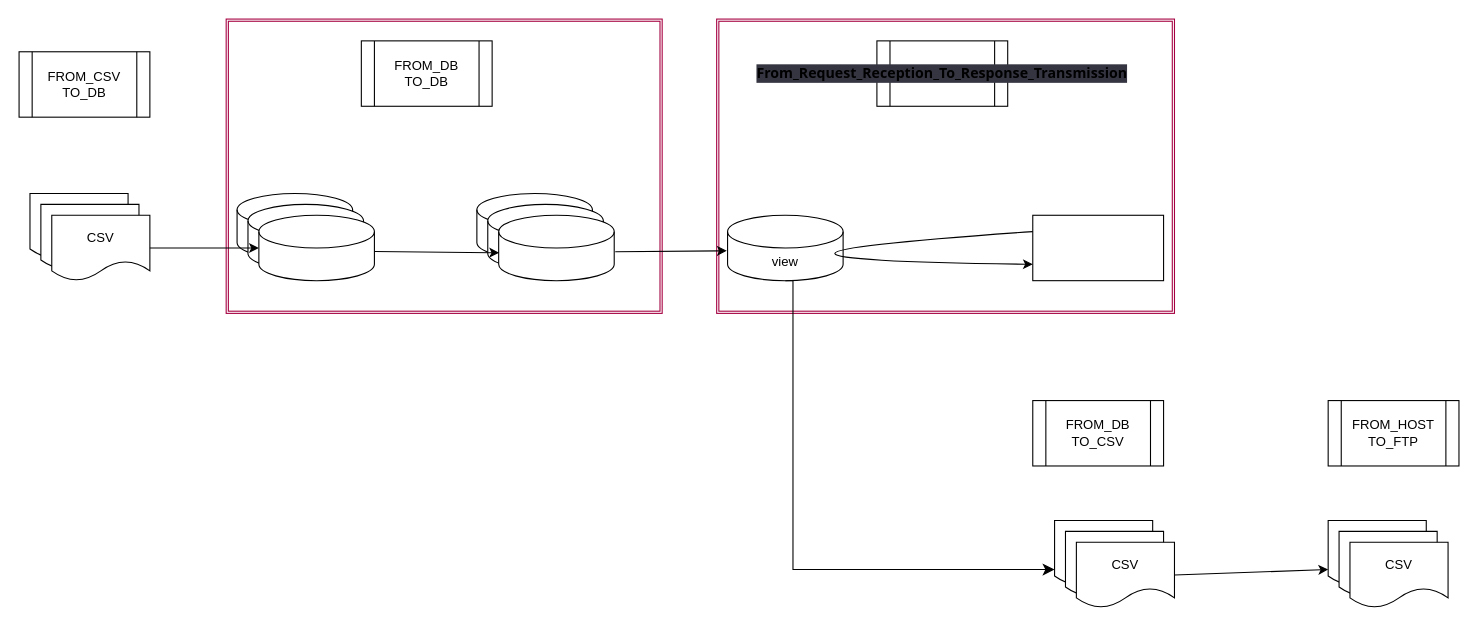
This 1478x627 diagram has some shape labels left out. The centre of each missing label's shape, as x and y in pixels:
"main" belongs at (x=316, y=247).
"tmp" belongs at (x=556, y=247).
"web" belongs at (x=1098, y=247).
